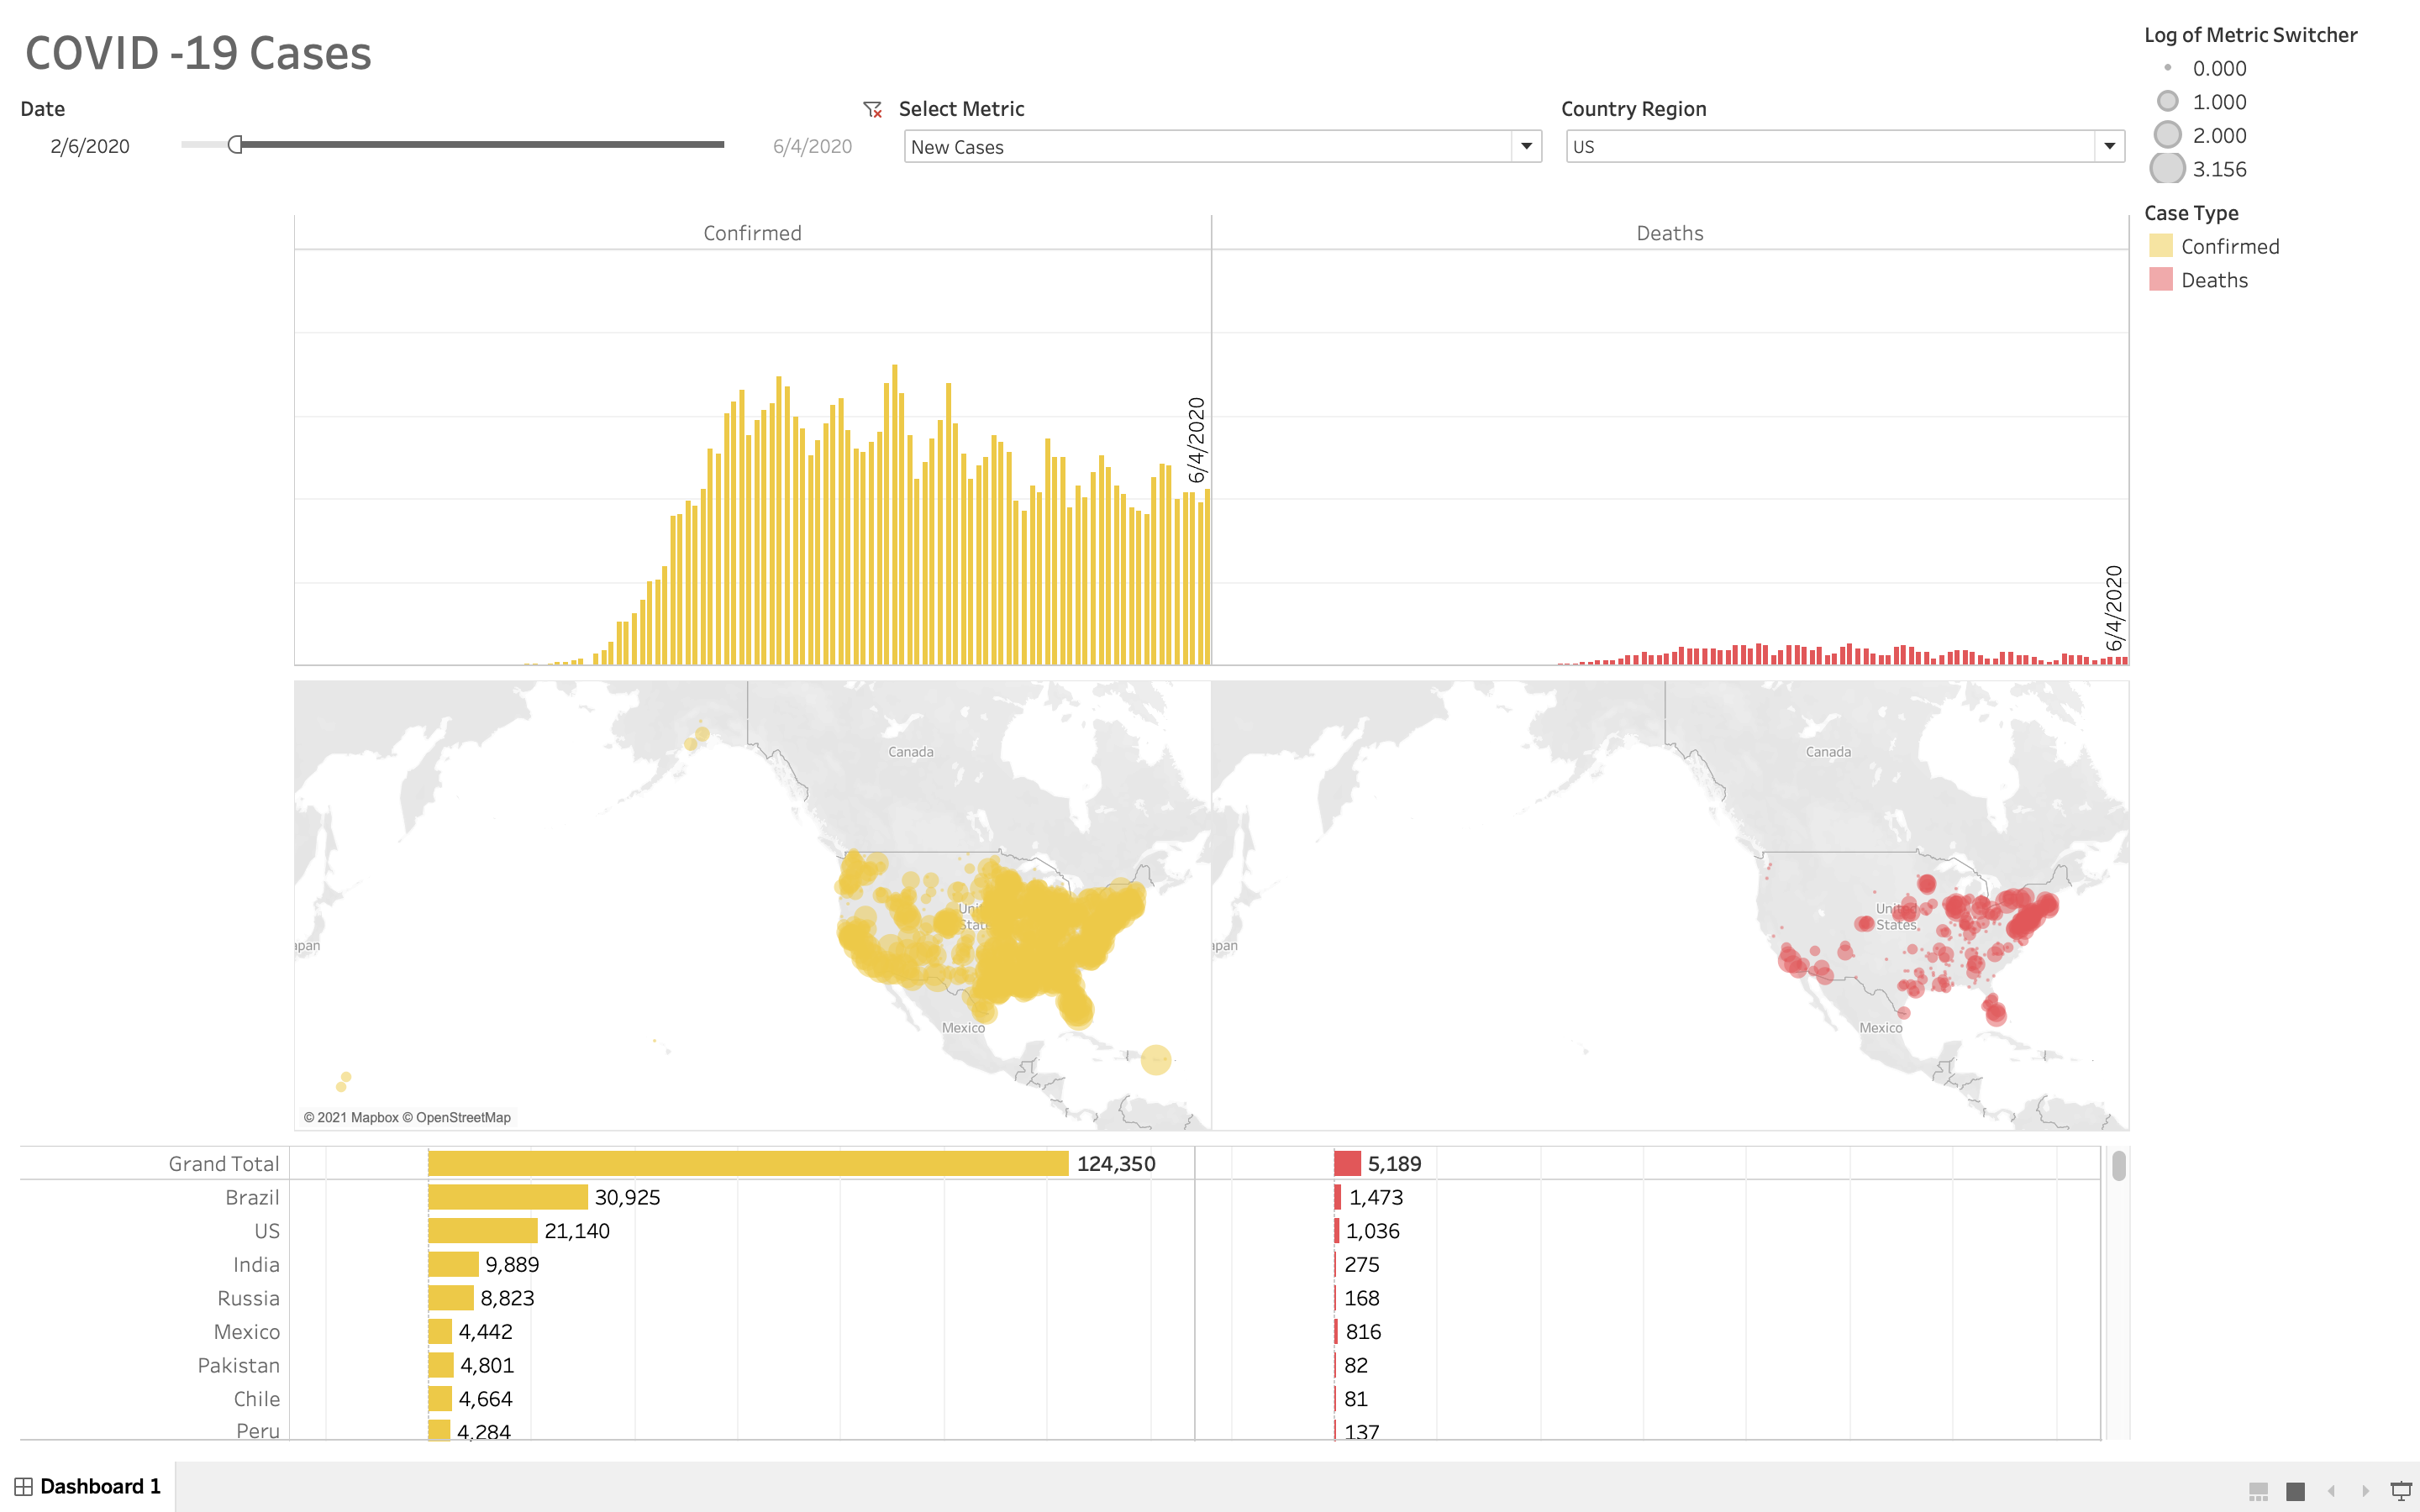

This screenshot's page, from the dashboard's own definition file:
{"tool":"tableau","page":{"name":"Dashboard 1","canvas":[1000,1000],"units":"permille","ordinal":0},"visuals":[{"type":"worksheet","box":[0,0,1000,1000]},{"type":"worksheet","param":"horz","box":[6.3,9.9,987.4,980.2]},{"type":"worksheet","box":[6.3,9.9,861.3,980.2]},{"type":"worksheet","box":[6.3,9.9,861.3,50.7]},{"type":"worksheet","param":"vert","box":[867.6,9.9,126.1,980.2]},{"type":"worksheet","title":"Map","mark":"Automatic","rows":["lat"],"cols":["case_type","long"],"param":"[federated.1heseyb1tid28o1bsldc91nbcqvd].[usr:Calculation_1290281297998848001:qk","box":[867.6,9.9,126.1,131.2]},{"type":"worksheet","title":"CasesByDay","mark":"Bar","rows":["Calculation_1290281297997033472"],"cols":["case_type","date"],"param":"[federated.1heseyb1tid28o1bsldc91nbcqvd].[none:date:qk]","box":[6.3,60.6,356.4,82.9]},{"type":"worksheet","param":"[Parameters].[Parameter 1]","box":[362.7,60.6,268.6,82.9]},{"type":"worksheet","title":"CasesByDay","mark":"Bar","rows":["Calculation_1290281297997033472"],"cols":["case_type","date"],"param":"[federated.1heseyb1tid28o1bsldc91nbcqvd].[none:country_region:nk]","box":[631.3,60.6,236.3,82.9]},{"type":"worksheet","title":"Map","mark":"Automatic","rows":["lat"],"cols":["case_type","long"],"param":"[federated.1heseyb1tid28o1bsldc91nbcqvd].[none:case_type:nk]","box":[867.6,141.1,126.1,81.7]},{"type":"worksheet","param":"horz","box":[6.3,143.6,861.3,846.5]},{"type":"worksheet","box":[6.3,143.6,861.3,846.5]},{"type":"worksheet","box":[6.3,143.6,111.1,423.3]},{"type":"worksheet","title":"CasesByDay","mark":"Bar","rows":["Calculation_1290281297997033472"],"cols":["case_type","date"],"box":[117.4,143.6,750.2,317.5]},{"type":"worksheet","title":"Map","mark":"Automatic","rows":["lat"],"cols":["case_type","long"],"box":[117.4,461,750.2,317.5]},{"type":"worksheet","box":[6.3,566.8,111.1,211.7]},{"type":"worksheet","title":"CasesbyCountry","mark":"Automatic","rows":["country_region"],"cols":["case_type","Calculation_1290281297997033472"],"box":[6.3,778.5,861.3,211.6]}]}

Visuals, with their boxes on the dashboard's canvas, which has no fixed pixel size, in thousandths of its width and height (x1, y1, x2, y2). These are canvas units, not pixel positions in the 2420x1512 screenshot, which may show the page scaled, cropped or inside an application window:
worksheet: 0:0:1000:1000
worksheet: 6:10:994:990
worksheet: 6:10:868:990
worksheet: 6:10:868:61
worksheet: 868:10:994:990
"Map" worksheet: 868:10:994:141
"CasesByDay" worksheet (Bar marks): 6:61:363:144
worksheet: 363:61:631:144
"CasesByDay" worksheet (Bar marks): 631:61:868:144
"Map" worksheet: 868:141:994:223
worksheet: 6:144:868:990
worksheet: 6:144:868:990
worksheet: 6:144:117:567
"CasesByDay" worksheet (Bar marks): 117:144:868:461
"Map" worksheet: 117:461:868:778
worksheet: 6:567:117:778
"CasesbyCountry" worksheet: 6:778:868:990
